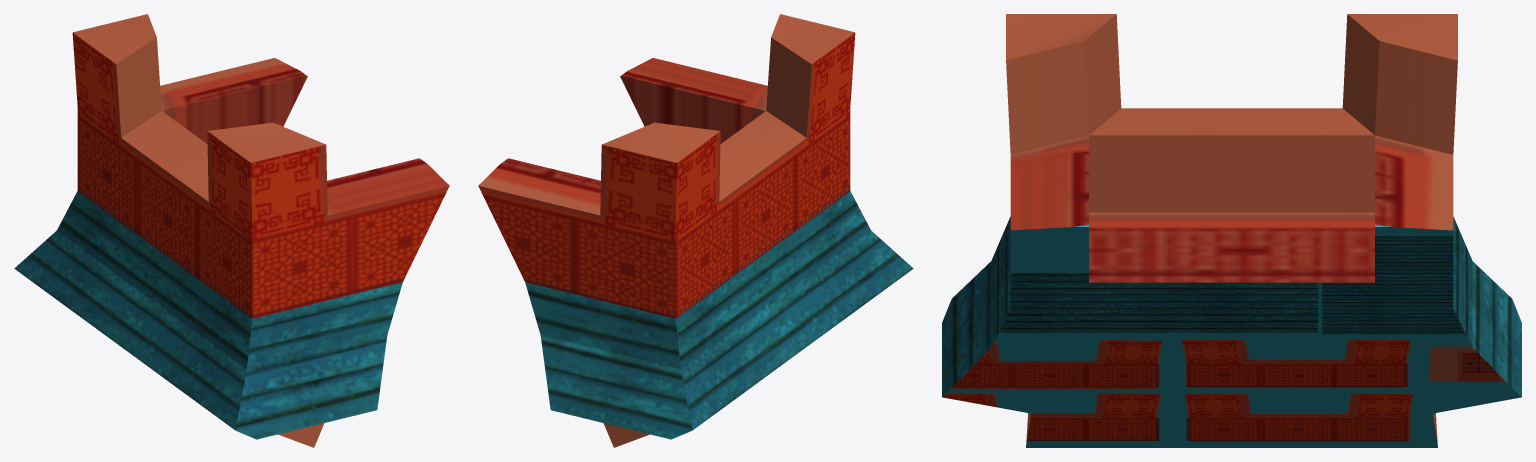
The model's file is borkertower01.FBX.
3 views of the same model, side by side, from view 1: azimuth 30°, elevation 25°; view 2: azimuth 150°, elevation 25°; view 3: azimuth 270°, elevation 25° (orthographic). The views are drawn at different scales.
Parts seen in each view (by area): view 1: Box007; view 2: Box007; view 3: Box007.
Boxes of the visible parts, left/top/right/bottom form: Box007: left=14, top=14, right=449, bottom=447; Box007: left=478, top=14, right=913, bottom=447; Box007: left=942, top=14, right=1521, bottom=447.
Size of the model in its own units: 31.9 by 39.81 by 52.82.
